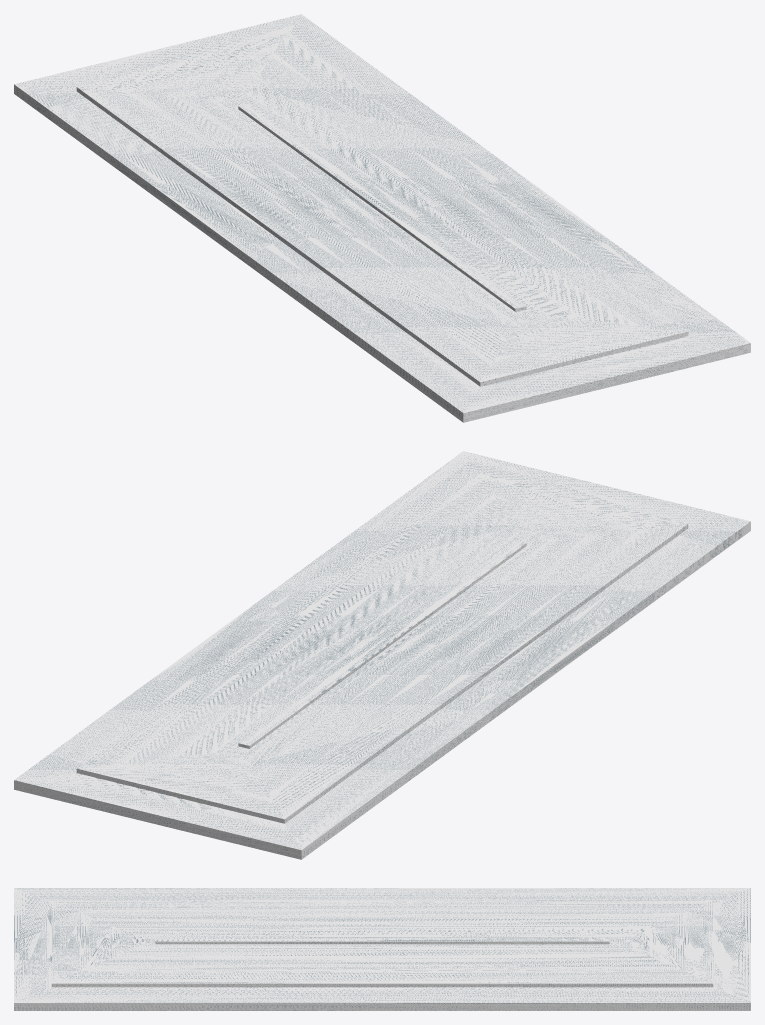
Rendered from meshy2.fbx.
The picture shows the model from 3 angles, top to bottom: view 1: azimuth 30°, elevation 25°; view 2: azimuth 150°, elevation 25°; view 3: azimuth 270°, elevation 25°; orthographic projection. The views are drawn at different scales.
Visible parts, largest first — view 1: Model; view 2: Model; view 3: Model.
Boxes of the visible parts, x1,y1,x2,y2 form: Model: [14, 14, 750, 422]; Model: [14, 451, 750, 859]; Model: [14, 888, 750, 1010].
Size of the model in its own units: 72.62 by 4.12 by 197.
